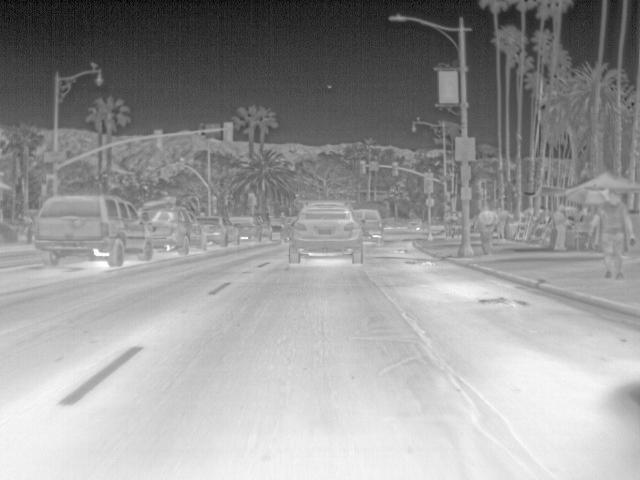car: (33, 193, 155, 266), (286, 198, 364, 262), (136, 205, 204, 255), (196, 214, 239, 246), (349, 208, 385, 244), (229, 214, 260, 240), (257, 211, 274, 241), (405, 218, 427, 232)
person: (594, 188, 633, 282), (475, 204, 503, 256), (552, 204, 575, 252)
